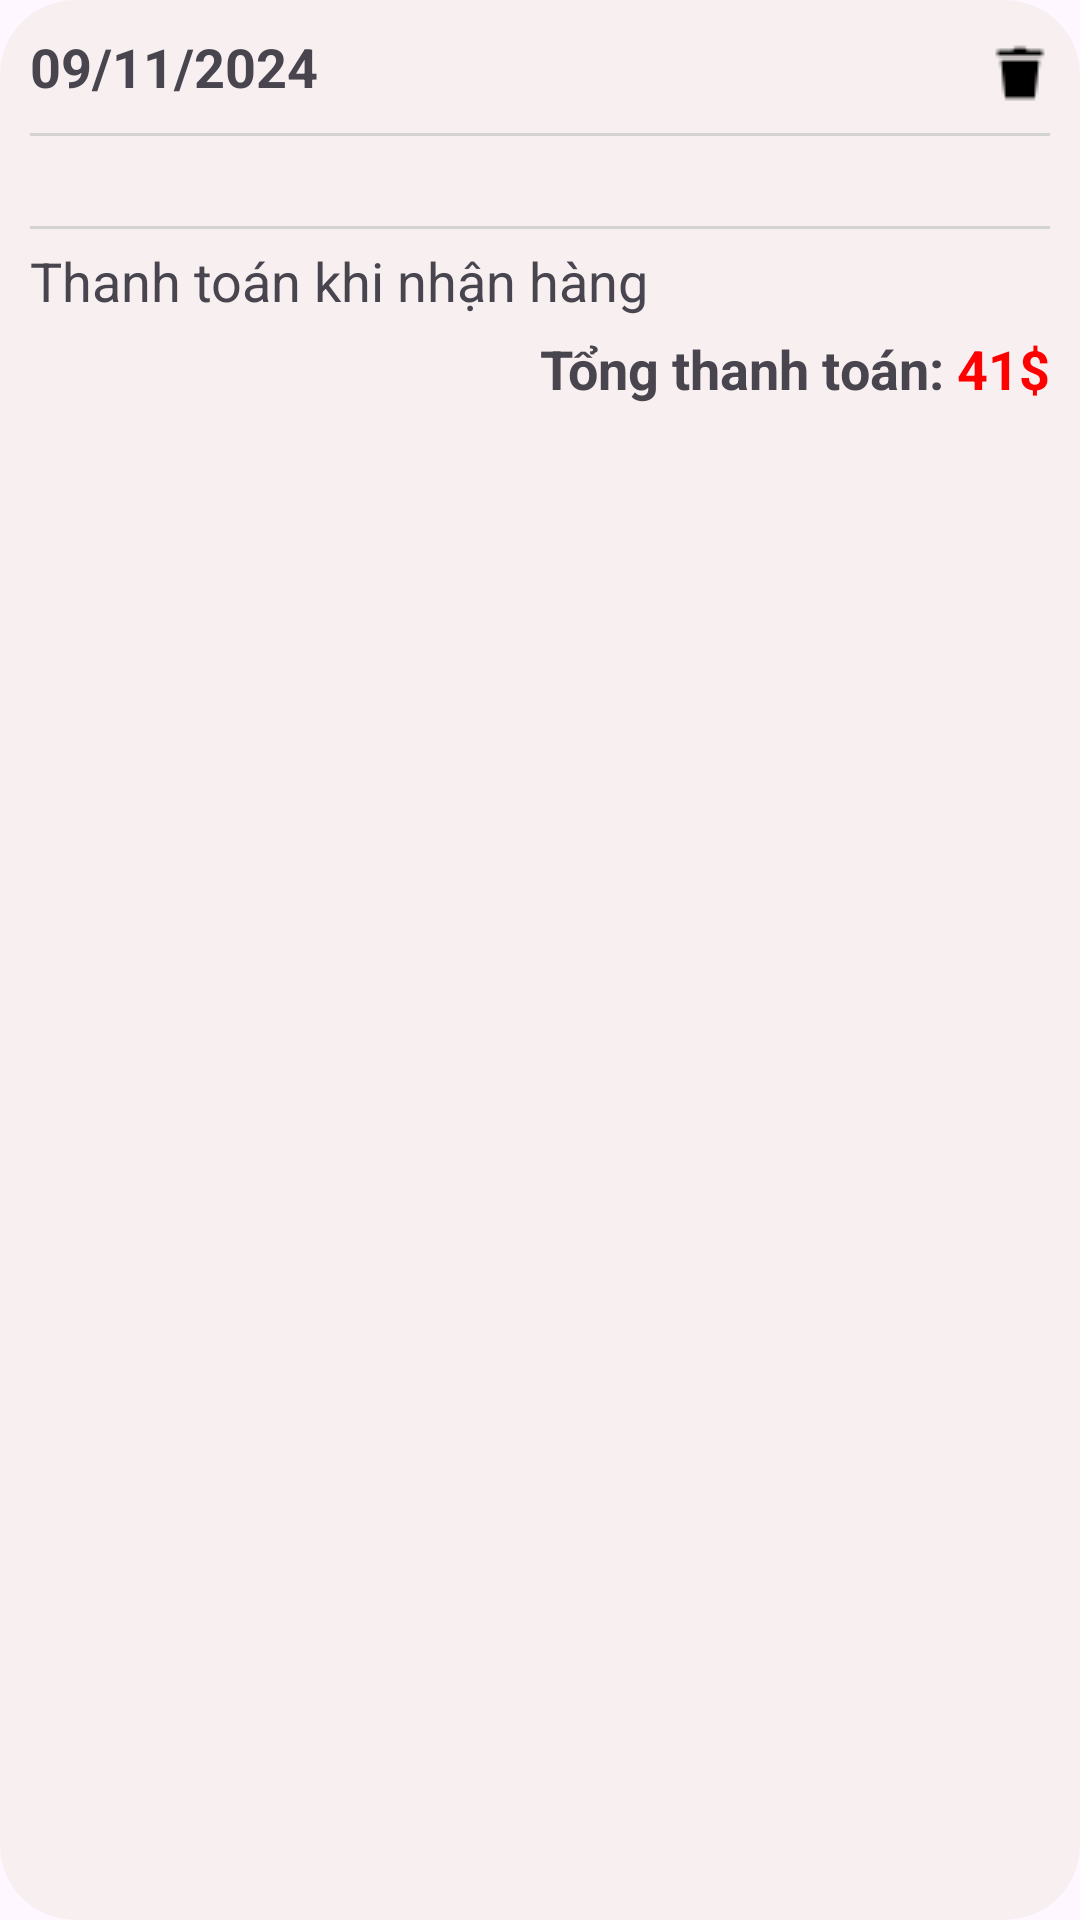

Named icons in this screenshot (1080 x 1920) and their centers, (x,y):
delete: (1020,73)
